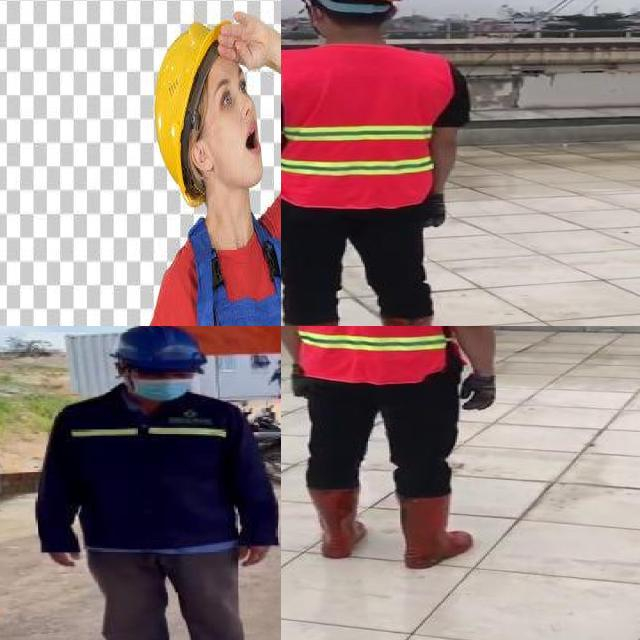No_Ear-Protection: (188, 136, 218, 183)
No_Glasses: (212, 63, 251, 119)
boots: (391, 494, 478, 572), (302, 484, 372, 559)
face_mask: (124, 362, 198, 402)
face_nomask: (224, 101, 264, 185)
hand_glove: (414, 197, 456, 228), (464, 370, 496, 410)
hand_noglove: (218, 13, 270, 69), (232, 536, 272, 568), (42, 544, 84, 572)
head_helmet: (154, 20, 228, 205), (110, 326, 209, 371)
person: (30, 326, 281, 640), (281, 0, 473, 326), (281, 326, 513, 575)
vest: (281, 46, 451, 208), (281, 326, 456, 382)
